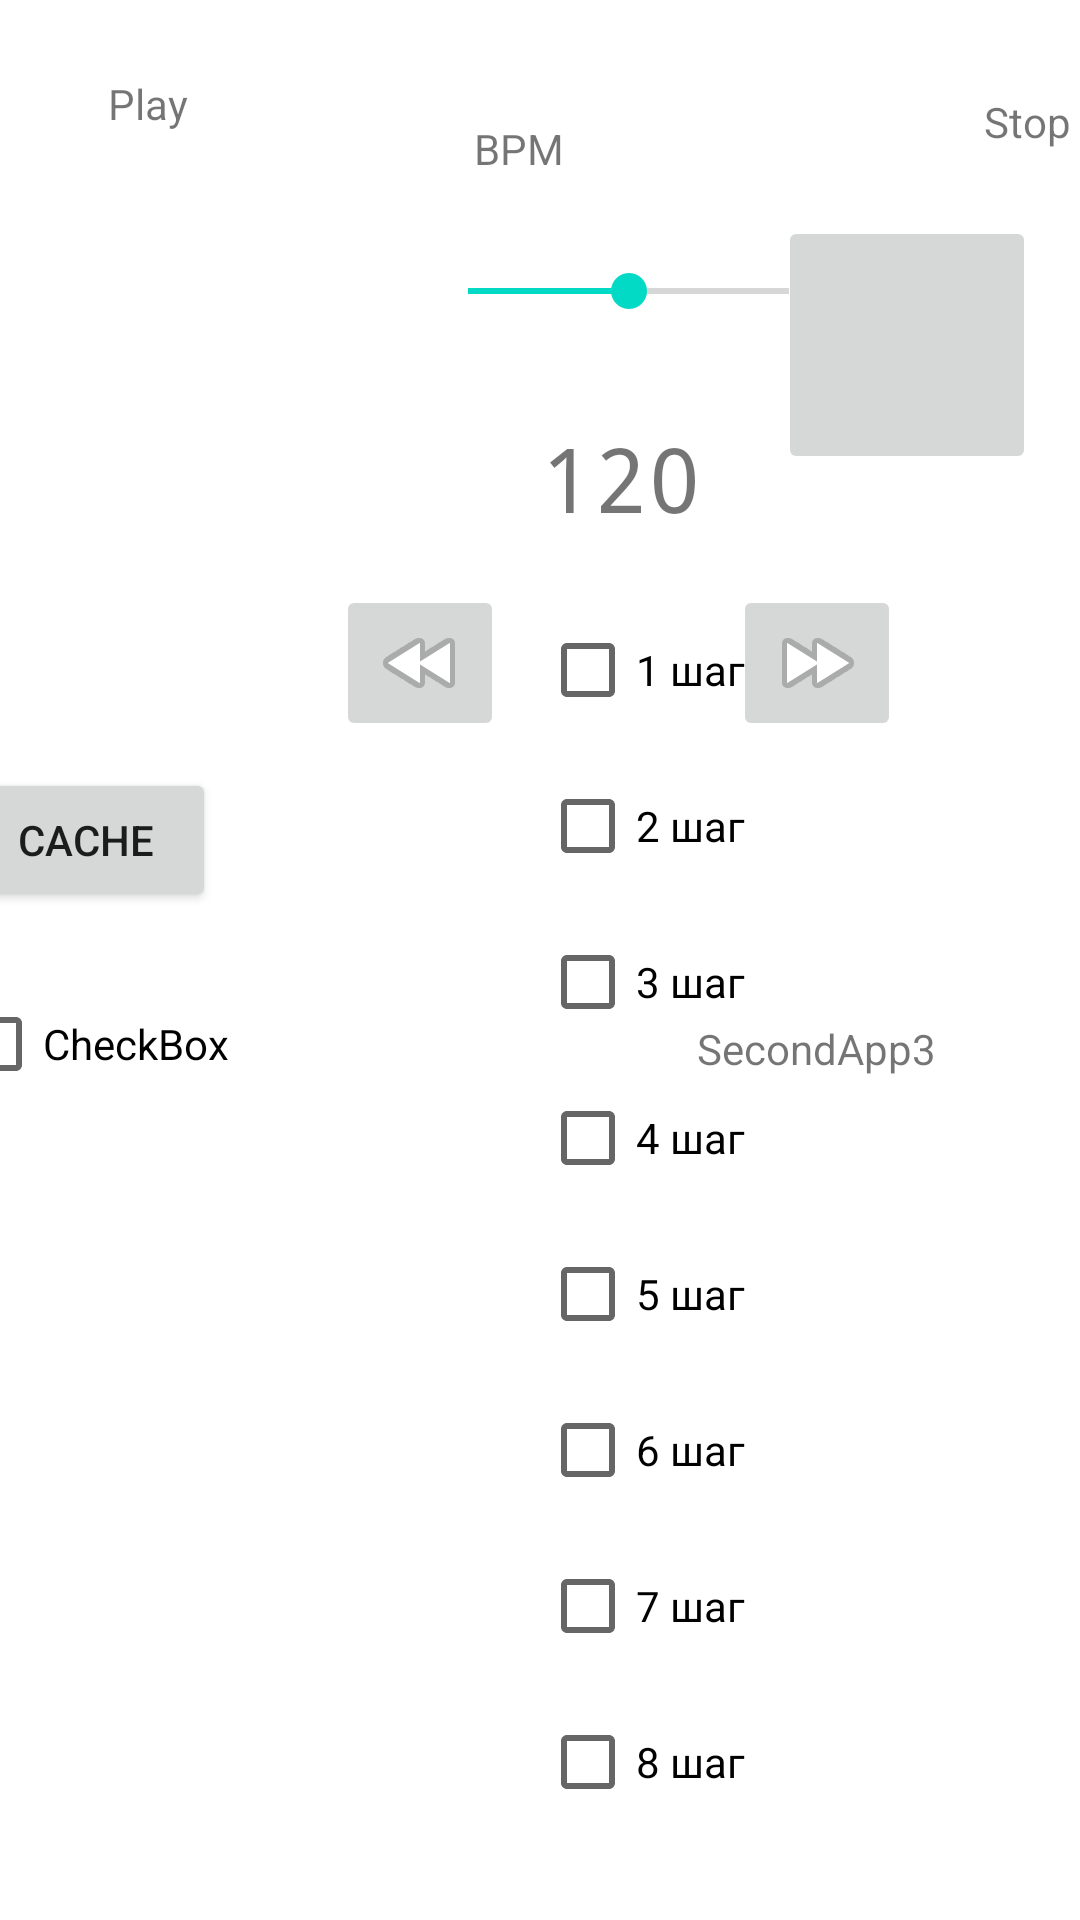

Icons on this 1080×1920 Android screen, each with the point to tap as [x,y]:
rew: [420,663]
